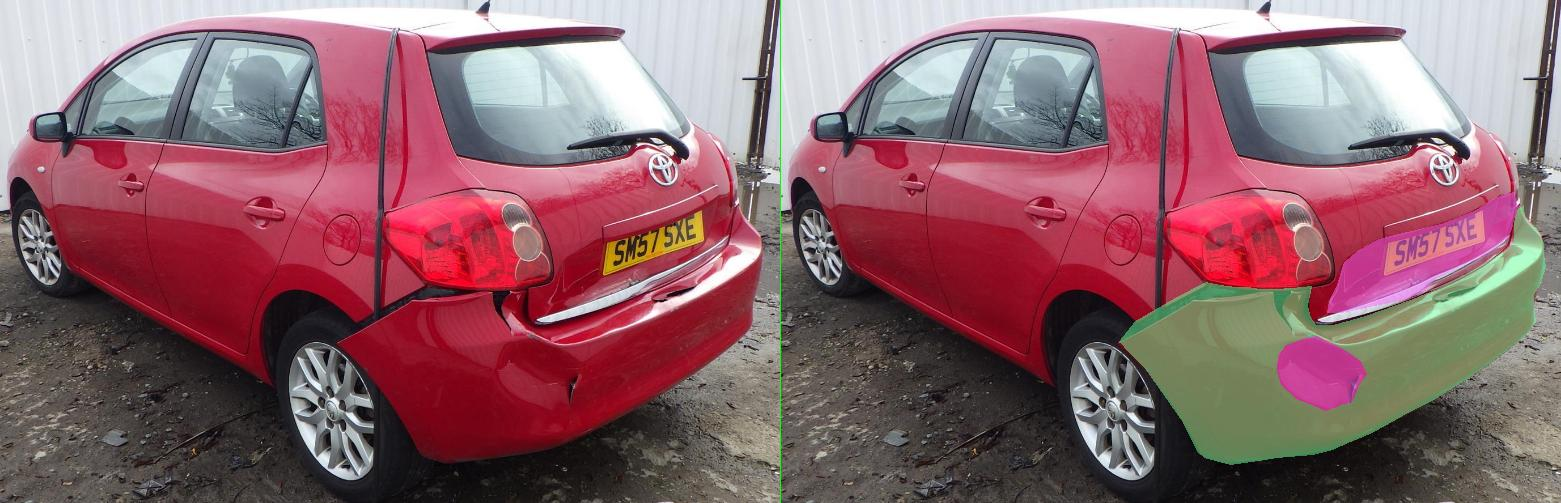Broken part: (676, 206, 1529, 464)
Dent: (1093, 192, 1473, 312), (993, 336, 1171, 410)
